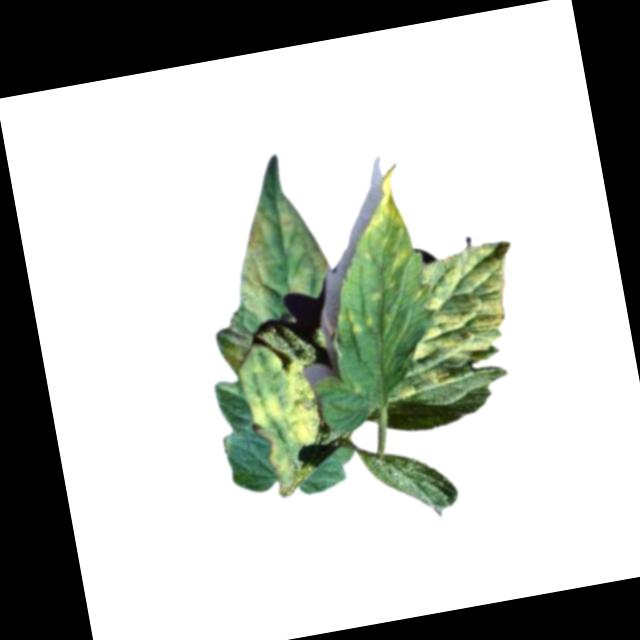Leaf_Mold: (392, 240, 532, 391), (223, 195, 336, 326), (241, 348, 332, 492), (343, 162, 416, 270)
